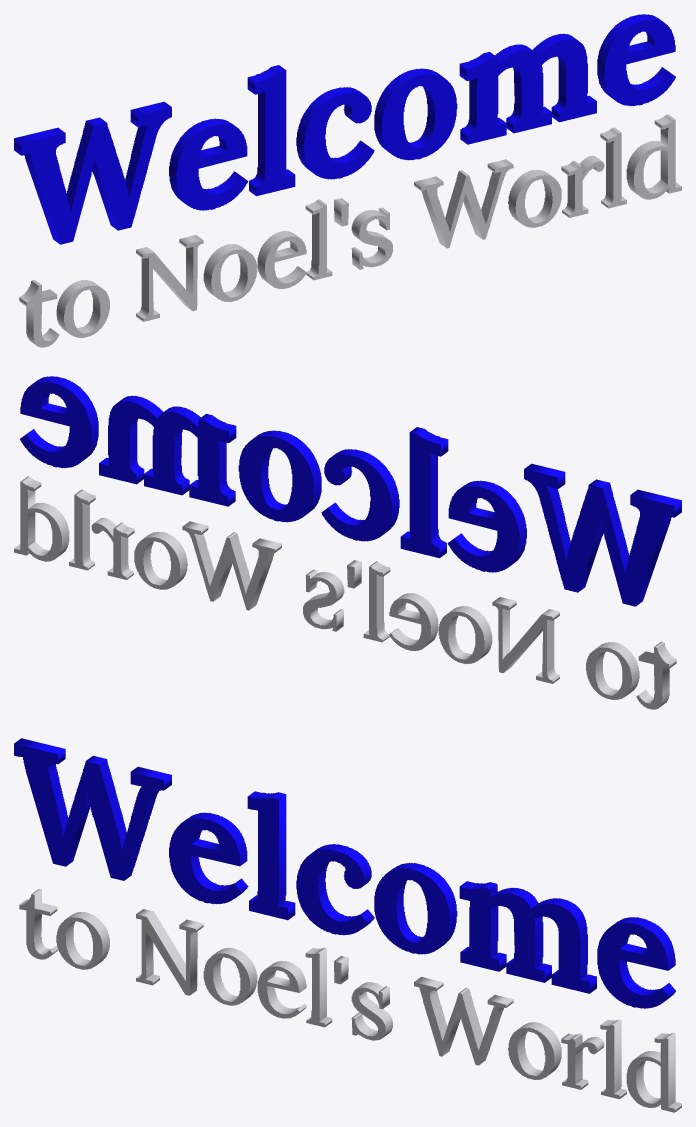
File: welcometext4.glb
3 renders of one model, top to bottom at view 1: azimuth 30°, elevation 25°; view 2: azimuth 150°, elevation 25°; view 3: azimuth 330°, elevation 25°, orthographic.
Visible parts, largest first — view 1: Text.001, Text; view 2: Text.001, Text; view 3: Text.001, Text.
Part boxes in pixels (x1,y1,x2,y2): Text.001: [14, 14, 675, 244]; Text: [19, 114, 681, 347]; Text.001: [20, 376, 681, 606]; Text: [14, 476, 676, 709]; Text.001: [14, 738, 675, 1008]; Text: [19, 889, 681, 1112].
Bounding box in the file's own units: 5.21 × 1.64 × 0.1011.
